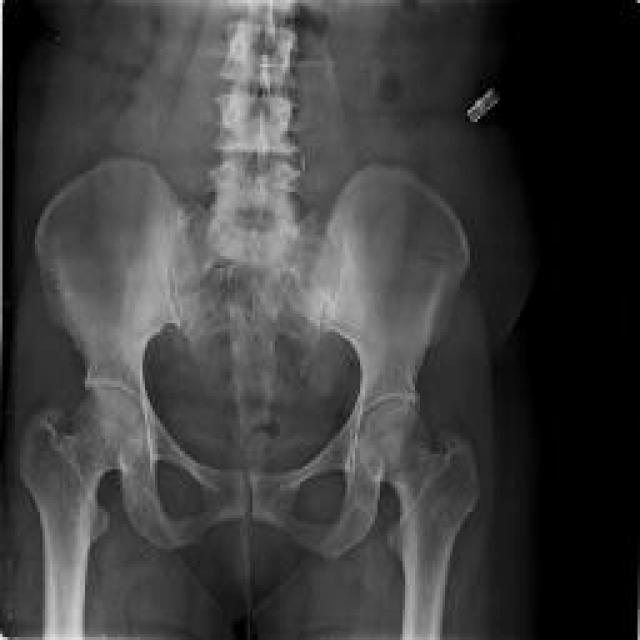normal: (20, 160, 246, 639), (252, 171, 474, 640)
